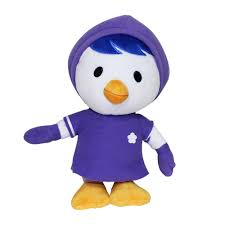Petty: (22, 13, 184, 209)
